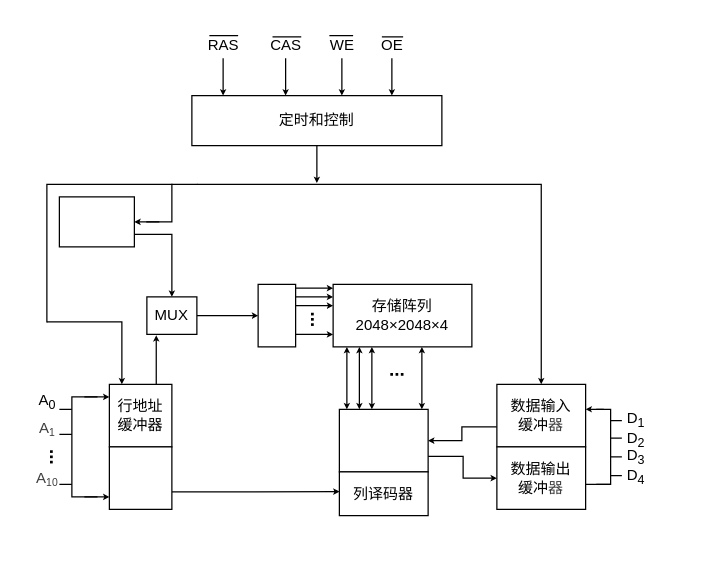
This 705x568 diagram has some shape labels left out. Each missing label, with the box of its shape:
列地址 缓冲器: (108, 446, 172, 509)
刷新 计数器: (58, 196, 134, 247)
行译 码器: (257, 283, 296, 347)
读出放大器 I/O 门: (338, 408, 428, 472)
